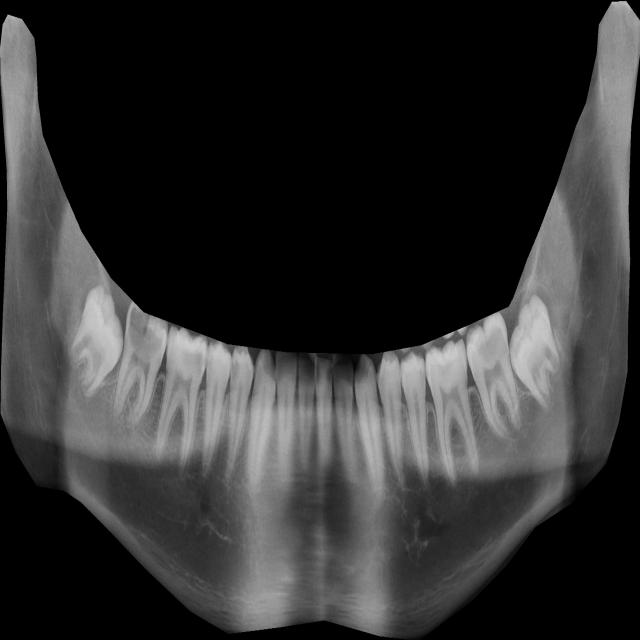mandibula: (0, 1, 640, 640)
